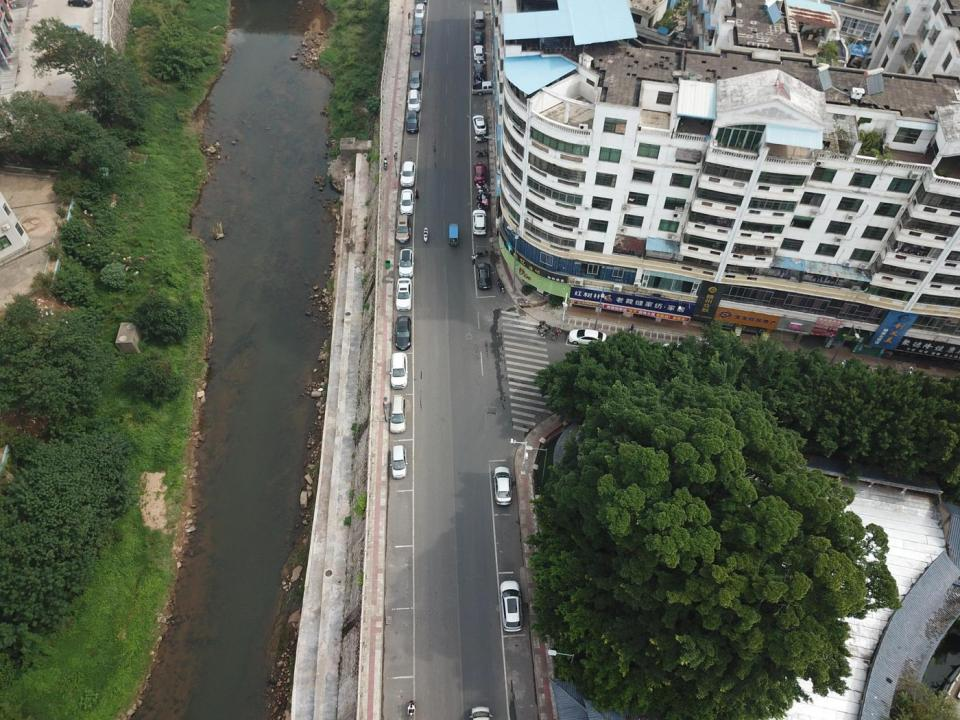car: (500, 580, 523, 632), (494, 466, 512, 506), (568, 328, 607, 346), (663, 343, 706, 358), (391, 352, 408, 389), (396, 276, 412, 312), (395, 315, 411, 350), (390, 445, 406, 479), (398, 249, 415, 278), (395, 215, 412, 244), (400, 160, 417, 187), (476, 262, 492, 289), (472, 209, 488, 235), (400, 189, 414, 215), (407, 89, 421, 111), (406, 111, 419, 133), (473, 161, 486, 183), (472, 115, 487, 134), (410, 70, 422, 89), (474, 62, 486, 80), (473, 28, 484, 44), (473, 45, 484, 61), (415, 3, 425, 19)
truck: (472, 81, 500, 96)
van: (389, 396, 406, 433), (411, 34, 422, 56), (474, 10, 485, 28), (413, 17, 422, 35)
